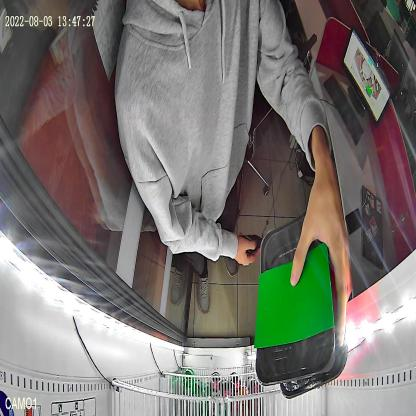green: (254, 213, 336, 387)
red: (280, 260, 348, 400)
